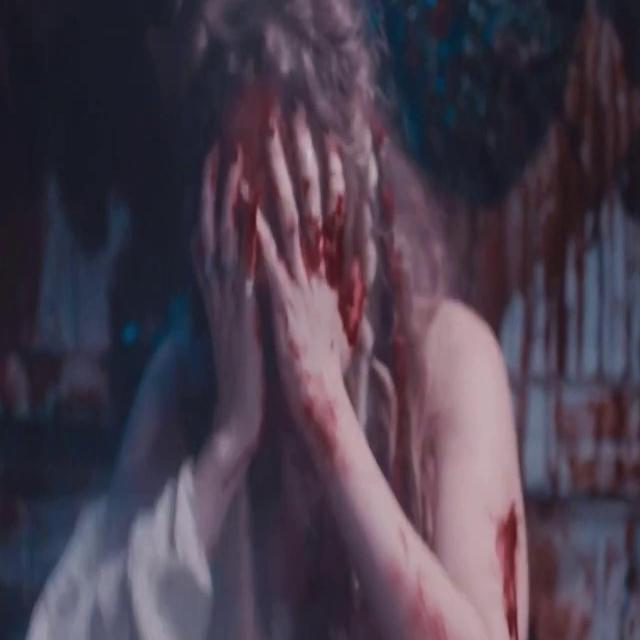flood: (307, 220, 364, 339), (499, 502, 520, 640)
